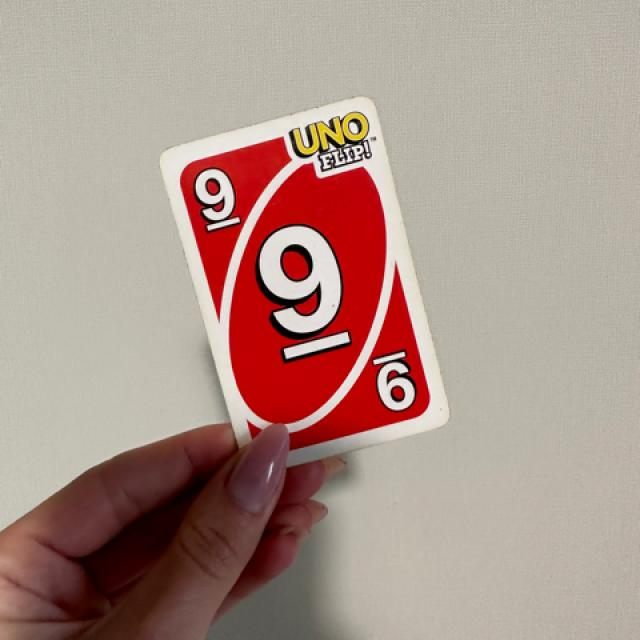lred-9: (182, 152, 255, 236)
